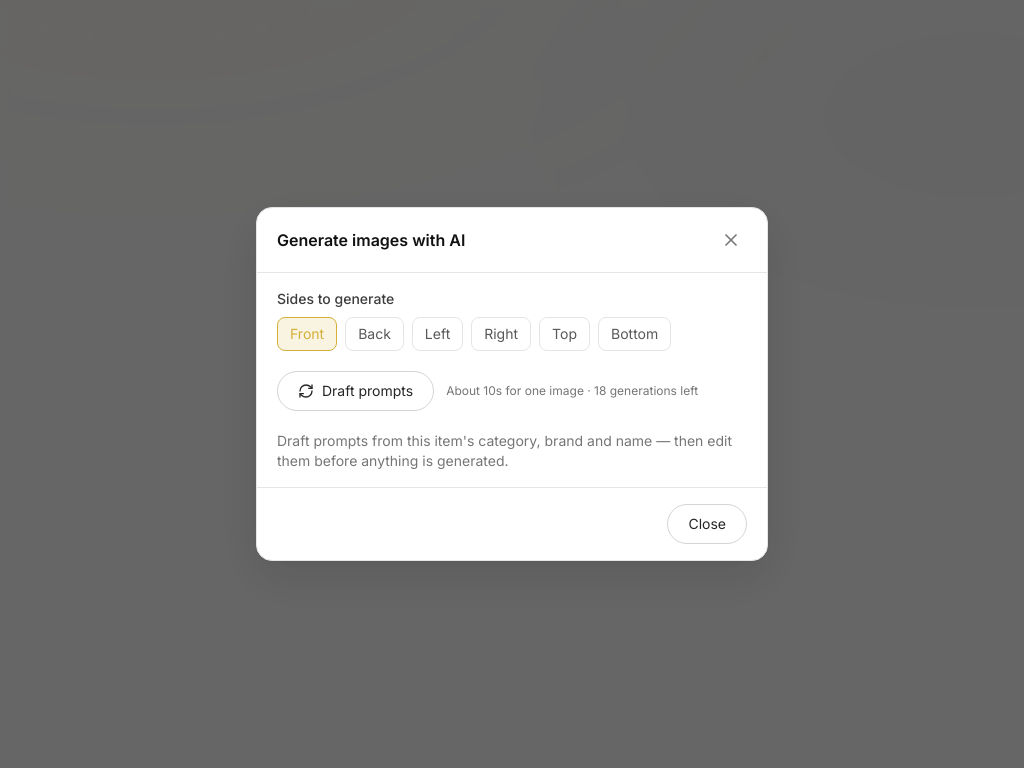
Test: AI image studio › the batch button skips sides that already produced an image
Step 1. Click the button "Draft prompts" → (356,391), box [277,371,434,411]
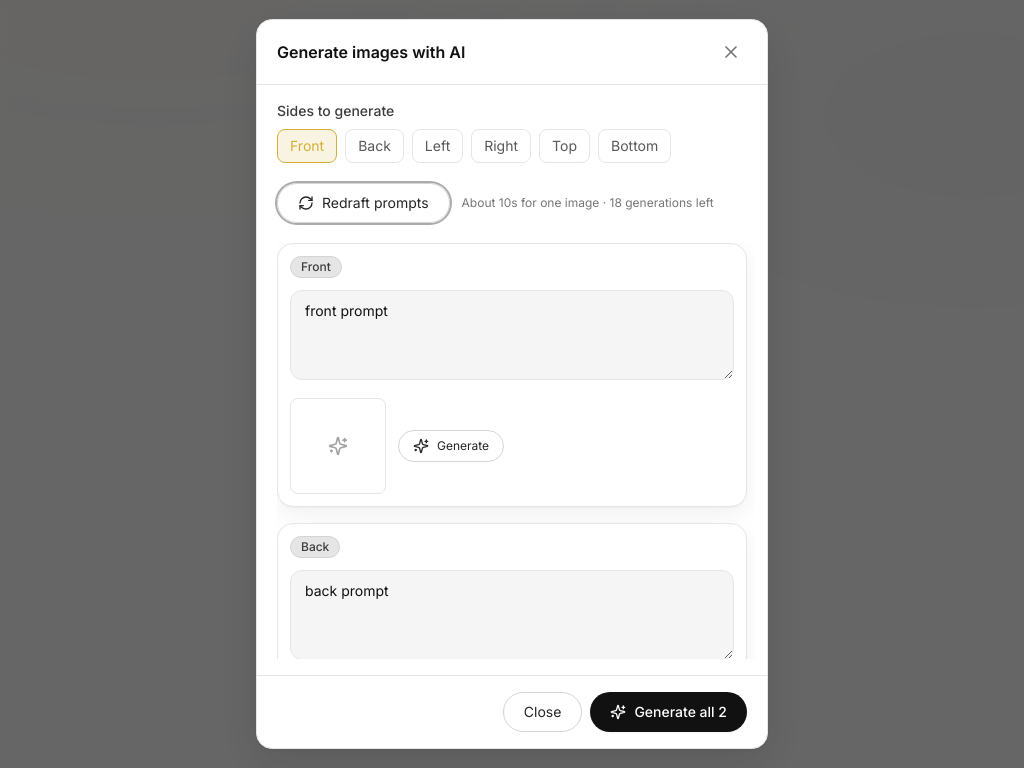
Result: the text box showing "front prompt" is shown at [290,290,734,380]
Step 2. Click the button "Generate" → (451,446), box [398,430,504,462]
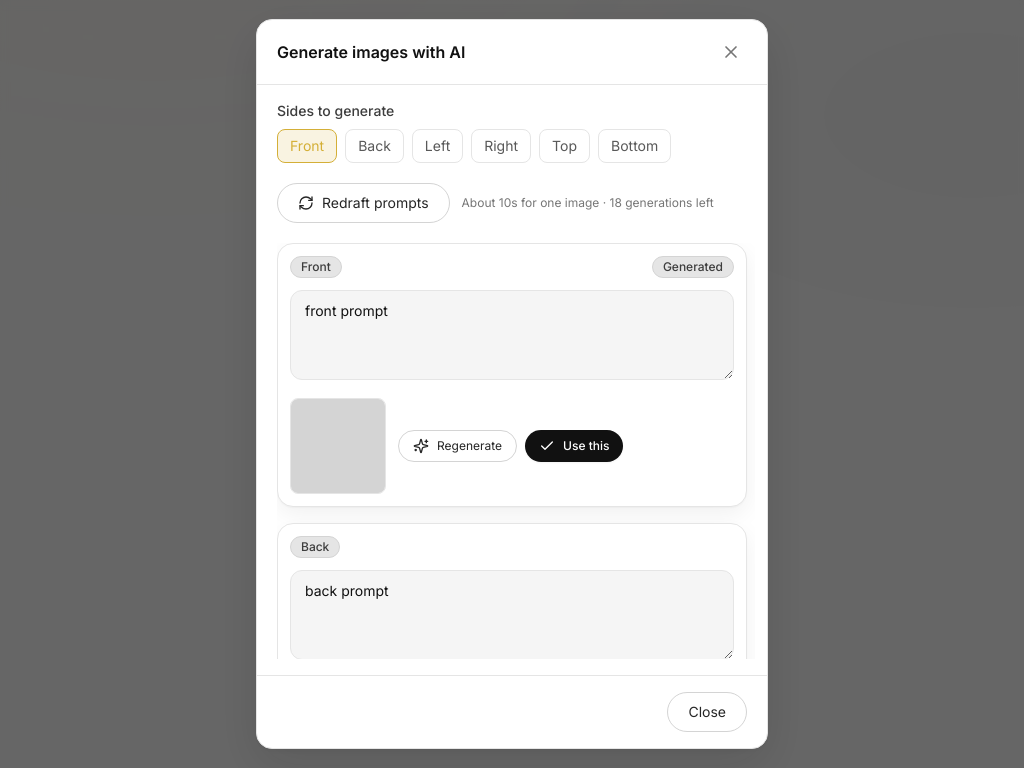
Result: the button "Use this" is shown at [525,430,623,462]
Result: the button "Generate all" is gone
